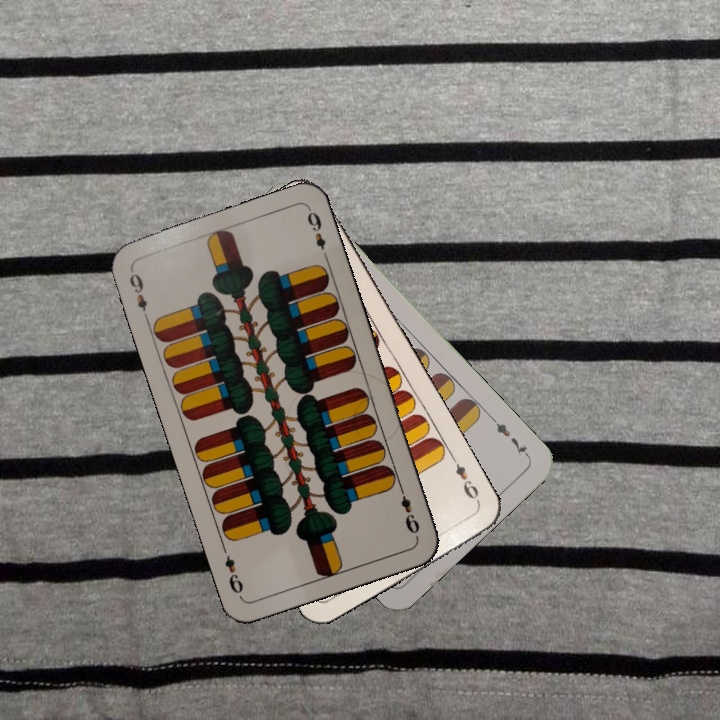E7: (487, 413, 532, 460)
E9: (447, 452, 483, 507), (395, 482, 422, 537), (125, 266, 151, 323)
